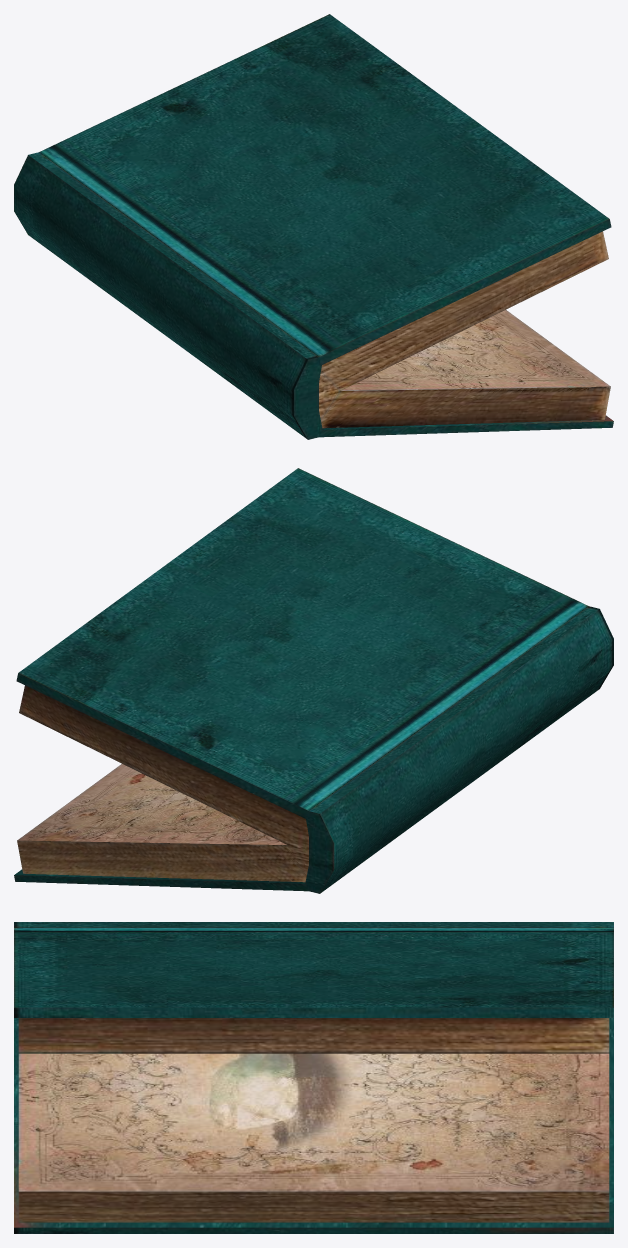
The model's file is Book_B.glb.
The picture shows the model from 3 angles, top to bottom: view 1: azimuth 30°, elevation 25°; view 2: azimuth 150°, elevation 25°; view 3: azimuth 270°, elevation 25°; orthographic projection. The views are drawn at different scales.
Visible parts, largest first — view 1: Book_B; view 2: Book_B; view 3: Book_B.
Part boxes in pixels (x1,y1,x2,y2): Book_B: [14, 14, 613, 439]; Book_B: [14, 468, 613, 893]; Book_B: [14, 922, 613, 1233].
Bounding box in the file's own units: 0.2243 × 0.1404 × 0.34.
Materials: 1 (1 with a texture image).
